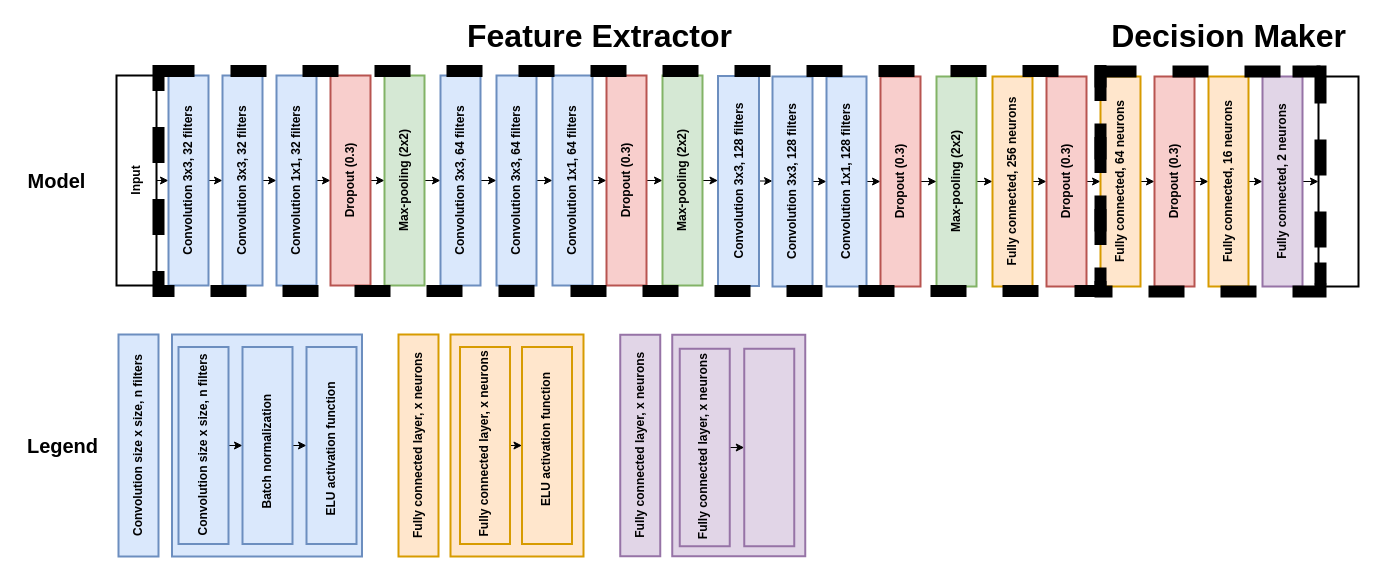
Some shapes in this 1376 by 575 pixel diagram are drawn without their labels. The shapes that lost their labels are listed below. From the top down, each one's box as (x1, y1, x2, y2) in pixels, then its label:
(1317, 75, 1359, 287): Output
(743, 347, 795, 547): Softmax
